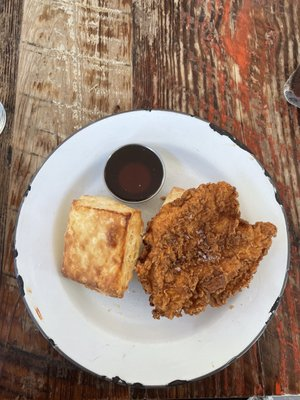sushi: (103, 143, 165, 203)
